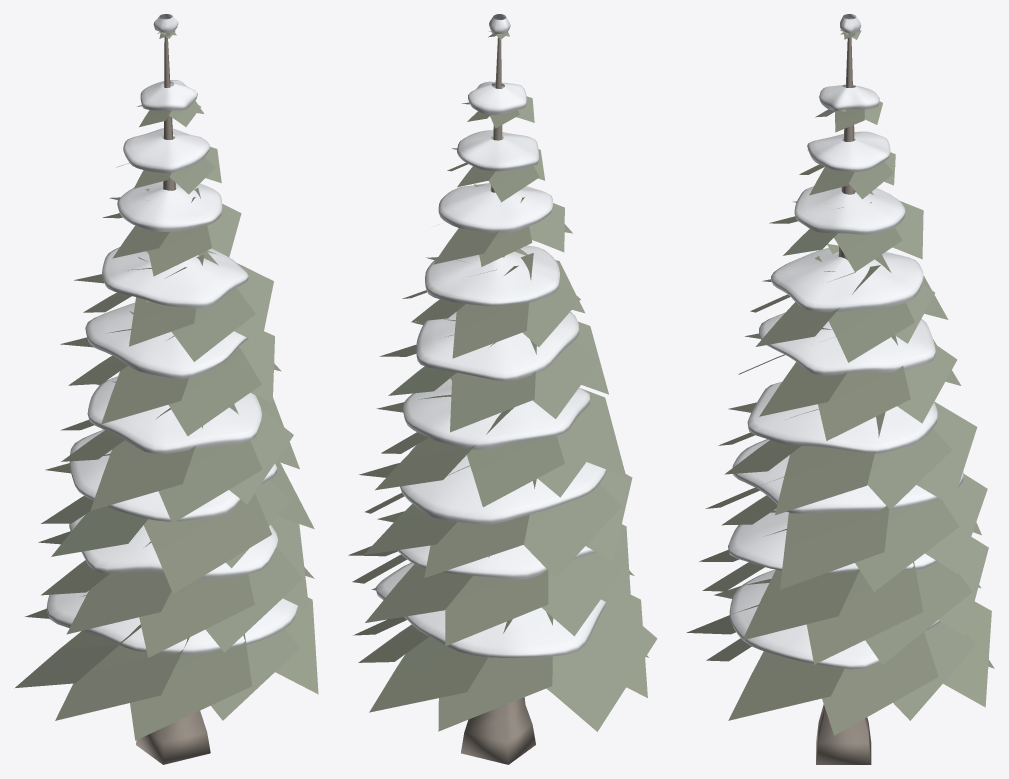
File: fir_602.glb
3 renders of one model, left to right at view 1: azimuth 30°, elevation 25°; view 2: azimuth 150°, elevation 25°; view 3: azimuth 270°, elevation 25°, orthographic.
Visible parts, largest first — view 1: fir_602_boughs, fir_602_snow, fir_602_limbs; view 2: fir_602_boughs, fir_602_snow, fir_602_limbs; view 3: fir_602_boughs, fir_602_snow, fir_602_limbs.
Part boxes in pixels (x1,y1,x2,y2): fir_602_boughs: (14, 31, 318, 740); fir_602_snow: (46, 14, 298, 654); fir_602_limbs: (136, 37, 210, 764); fir_602_boughs: (348, 31, 657, 731); fir_602_snow: (375, 14, 606, 657); fir_602_limbs: (461, 37, 535, 764); fir_602_boughs: (686, 30, 994, 735); fir_602_snow: (728, 14, 963, 669); fir_602_limbs: (816, 37, 871, 764).
Bounding box in the file's own units: 5.42 × 14.21 × 5.41.
